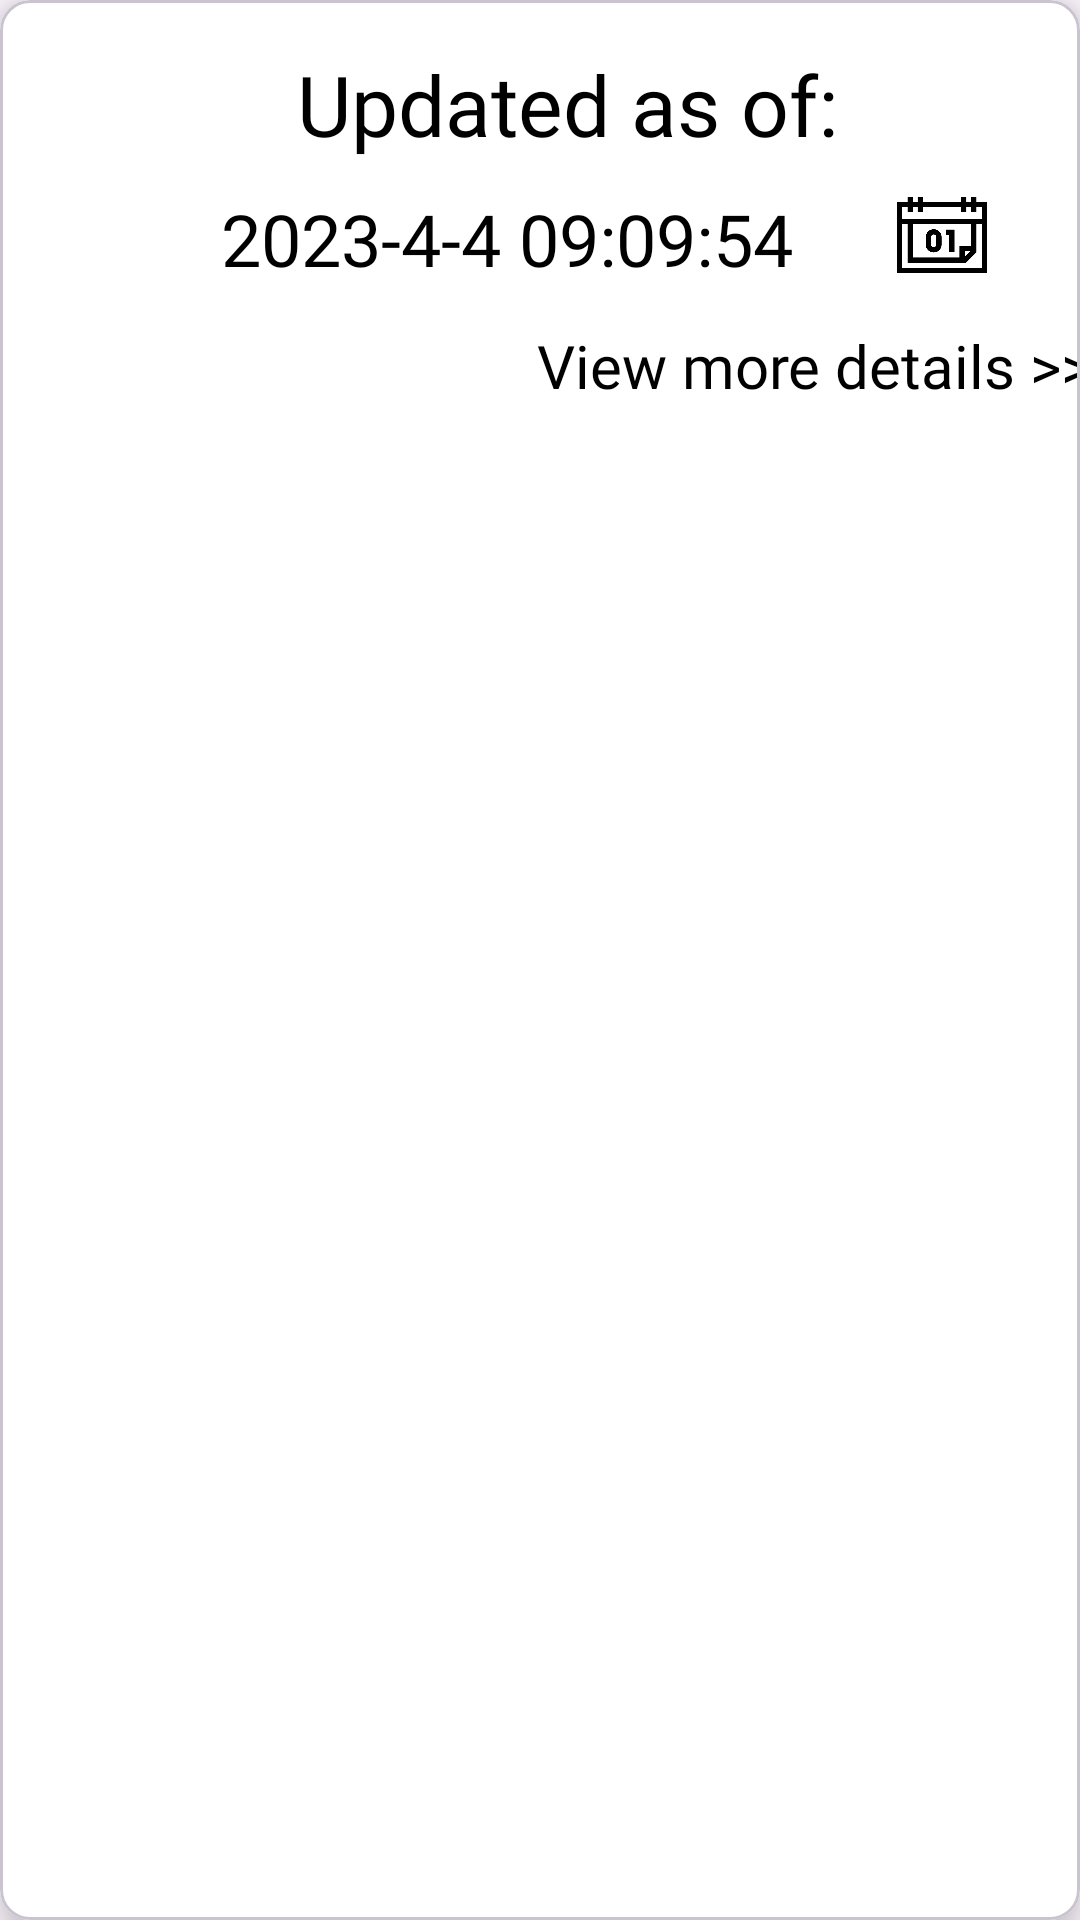

Icon click points for this 1080 x 1920 phone screenshot, format point (x, y):
calendar: point (942, 235)
